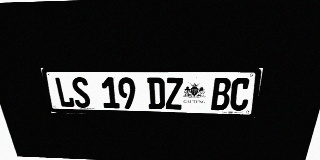1: (100, 77, 120, 108)
9: (117, 77, 137, 109)
B: (211, 78, 232, 110)
C: (229, 78, 251, 111)
D: (147, 77, 165, 109)
L: (54, 77, 75, 108)
S: (70, 77, 91, 108)
Z: (165, 78, 183, 110)
